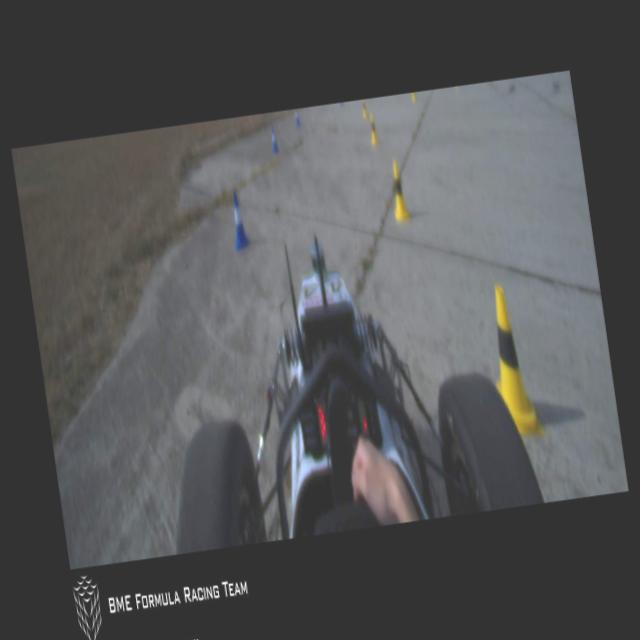blue_cone: (228, 190, 250, 250), (269, 125, 279, 154), (294, 108, 300, 126)
yellow_cone: (482, 282, 544, 440), (388, 161, 411, 221), (368, 113, 379, 145), (362, 99, 368, 118)
